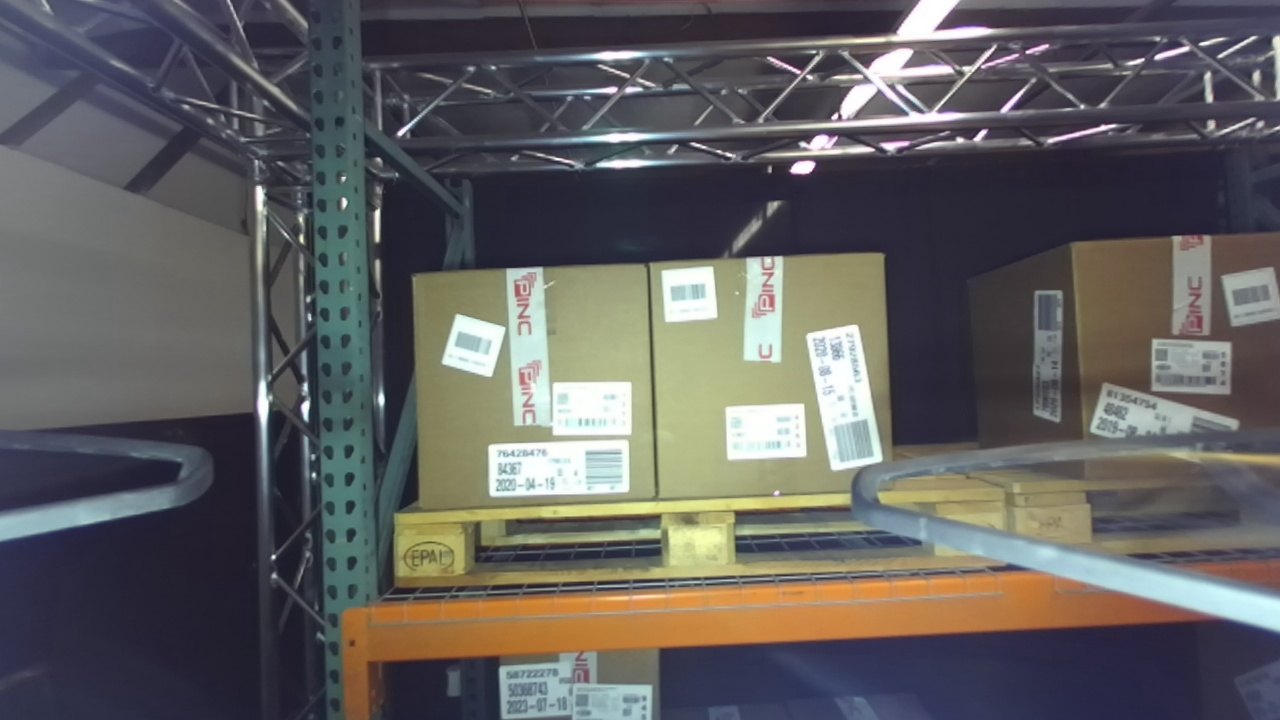box: (396, 248, 684, 528), (624, 238, 905, 524), (1045, 211, 1280, 504)
